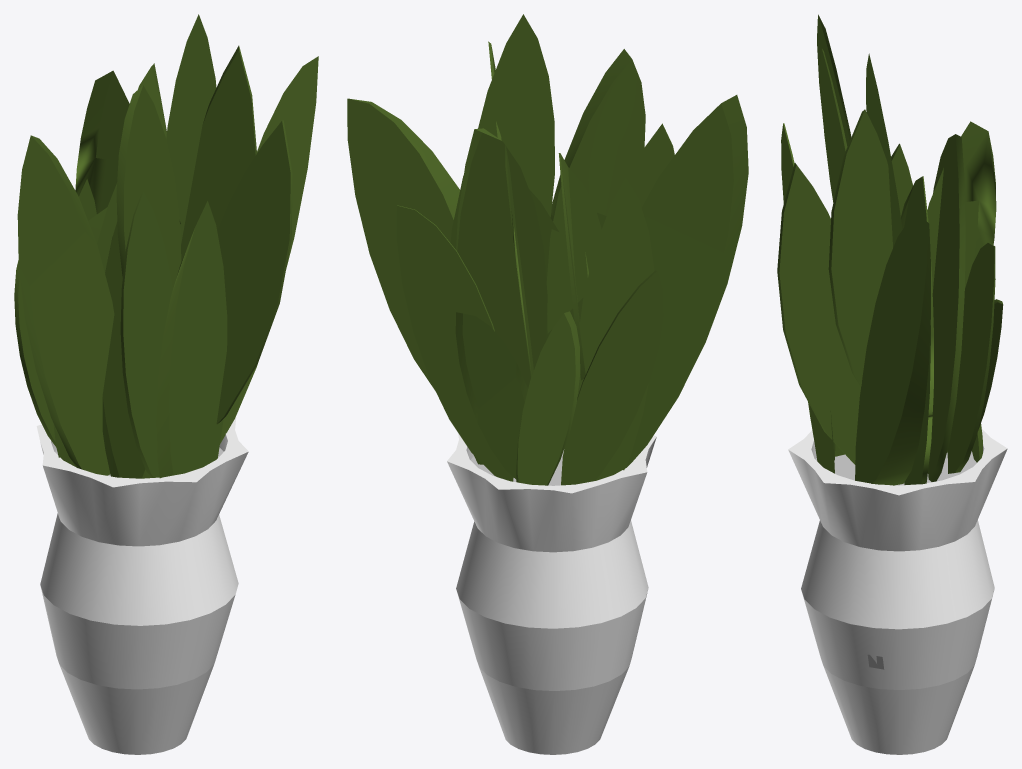
The model's file is plant+in+pot (1).obj.
3 views of the same model, side by side, from view 1: azimuth 30°, elevation 25°; view 2: azimuth 150°, elevation 25°; view 3: azimuth 270°, elevation 25° (orthographic). The views are drawn at different scales.
Visible parts, largest first — view 1: Mesh1 Model, Mesh12 Model, Mesh2 Model, Mesh6 Model, Mesh10 Model, Mesh9 Model, Mesh14 Model, Mesh20 Model, Mesh15 Model, Mesh17 Model, Mesh5 Model, Mesh11 Model (+2 smaller); view 2: Mesh1 Model, Mesh12 Model, Mesh4 Model, Mesh13 Model, Mesh5 Model, Mesh18 Model, Mesh11 Model, Mesh20 Model, Mesh14 Model, Mesh8 Model, Mesh7 Model, Mesh10 Model (+3 smaller); view 3: Mesh1 Model, Mesh5 Model, Mesh6 Model, Mesh9 Model, Mesh4 Model, Mesh18 Model, Mesh17 Model, Mesh16 Model, Mesh14 Model, Mesh20 Model, Mesh12 Model, Mesh2 Model (+3 smaller).
Part boxes in pixels (x1=…): Mesh1 Model: x1=36, y1=417, x2=248, y2=754; Mesh12 Model: x1=17, y1=135, x2=114, y2=475; Mesh2 Model: x1=156, y1=201, x2=227, y2=478; Mesh6 Model: x1=216, y1=120, x2=292, y2=423; Mesh10 Model: x1=120, y1=190, x2=172, y2=477; Mesh9 Model: x1=181, y1=45, x2=256, y2=261; Mesh14 Model: x1=116, y1=85, x2=181, y2=288; Mesh20 Model: x1=166, y1=14, x2=216, y2=244; Mesh15 Model: x1=102, y1=222, x2=158, y2=478; Mesh17 Model: x1=75, y1=70, x2=129, y2=213; Mesh5 Model: x1=220, y1=56, x2=318, y2=443; Mesh11 Model: x1=14, y1=260, x2=55, y2=446; Mesh1 Model: x1=447, y1=433, x2=656, y2=754; Mesh12 Model: x1=625, y1=95, x2=748, y2=468; Mesh4 Model: x1=456, y1=128, x2=547, y2=388; Mesh13 Model: x1=546, y1=167, x2=654, y2=480; Mesh5 Model: x1=347, y1=98, x2=459, y2=389; Mesh18 Model: x1=396, y1=205, x2=513, y2=481; Mesh11 Model: x1=561, y1=270, x2=663, y2=485; Mesh20 Model: x1=478, y1=14, x2=554, y2=217; Mesh14 Model: x1=550, y1=49, x2=645, y2=221; Mesh8 Model: x1=516, y1=311, x2=580, y2=485; Mesh7 Model: x1=455, y1=312, x2=527, y2=479; Mesh10 Model: x1=637, y1=123, x2=674, y2=207; Mesh1 Model: x1=788, y1=429, x2=1007, y2=754; Mesh5 Model: x1=855, y1=216, x2=930, y2=485; Mesh6 Model: x1=777, y1=163, x2=860, y2=464; Mesh9 Model: x1=828, y1=109, x2=892, y2=386; Mesh4 Model: x1=928, y1=134, x2=965, y2=481; Mesh18 Model: x1=947, y1=242, x2=995, y2=473; Mesh17 Model: x1=927, y1=121, x2=996, y2=292; Mesh16 Model: x1=901, y1=176, x2=933, y2=484; Mesh14 Model: x1=820, y1=48, x2=847, y2=202; Mesh20 Model: x1=866, y1=53, x2=902, y2=247; Mesh12 Model: x1=817, y1=14, x2=851, y2=146; Mesh2 Model: x1=808, y1=402, x2=834, y2=473.
Size of the model in its own units: 24.56 by 47.26 by 14.04.
